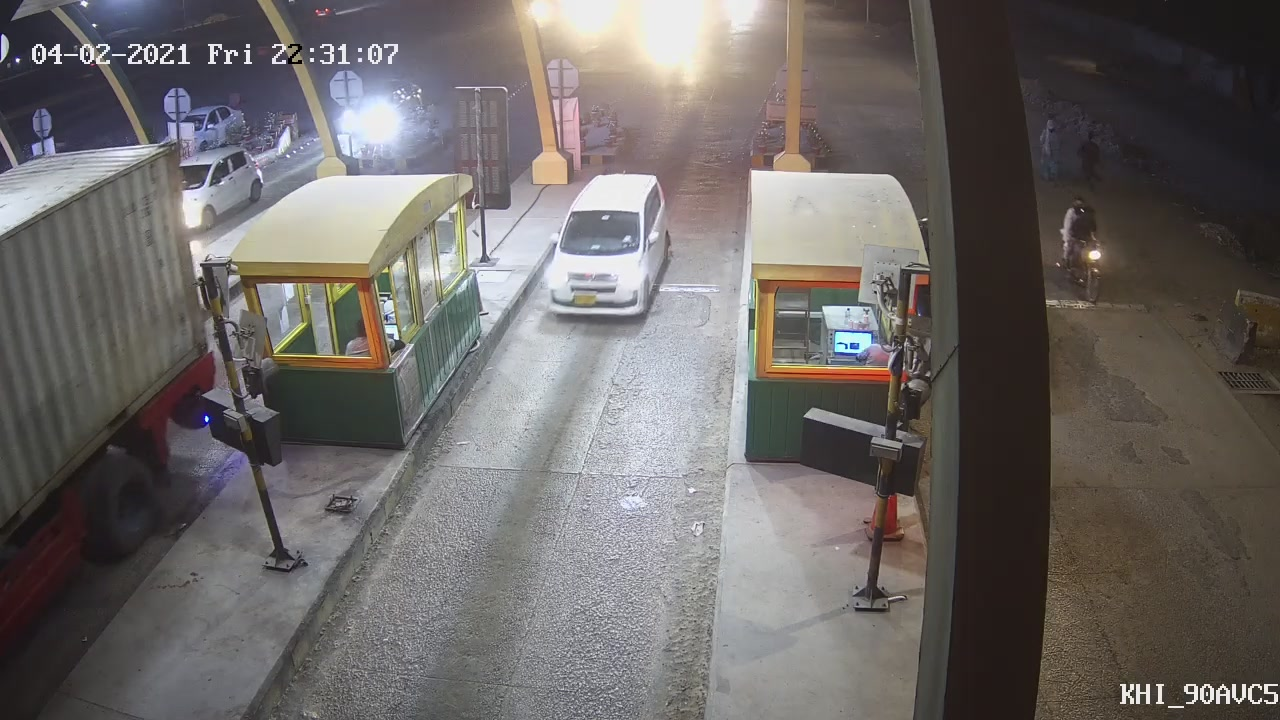F1: (540, 165, 684, 325)
